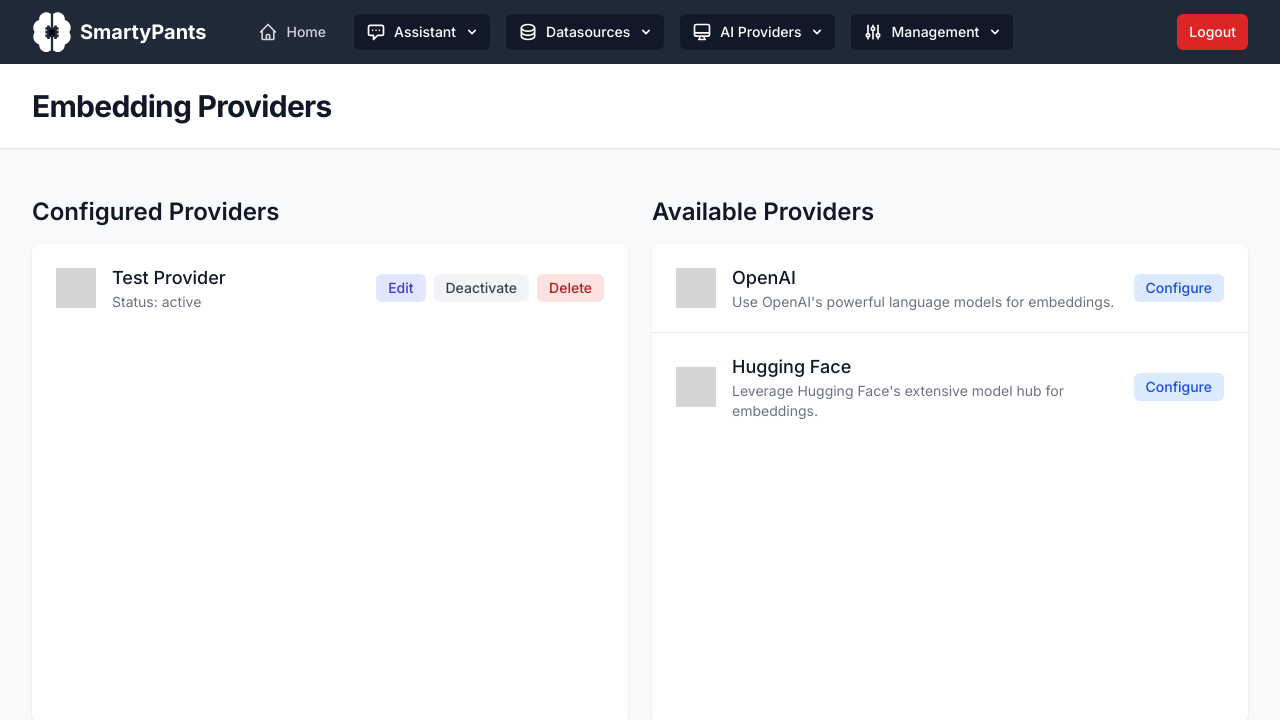
Test: EmbeddingProvidersPage › handles delete provider
The image size is (1280, 720).
Expected: the heading "Test Provider" is shown, [112,264,226,292]
Click the button "Delete" at (571, 288), box [537,274,604,302]
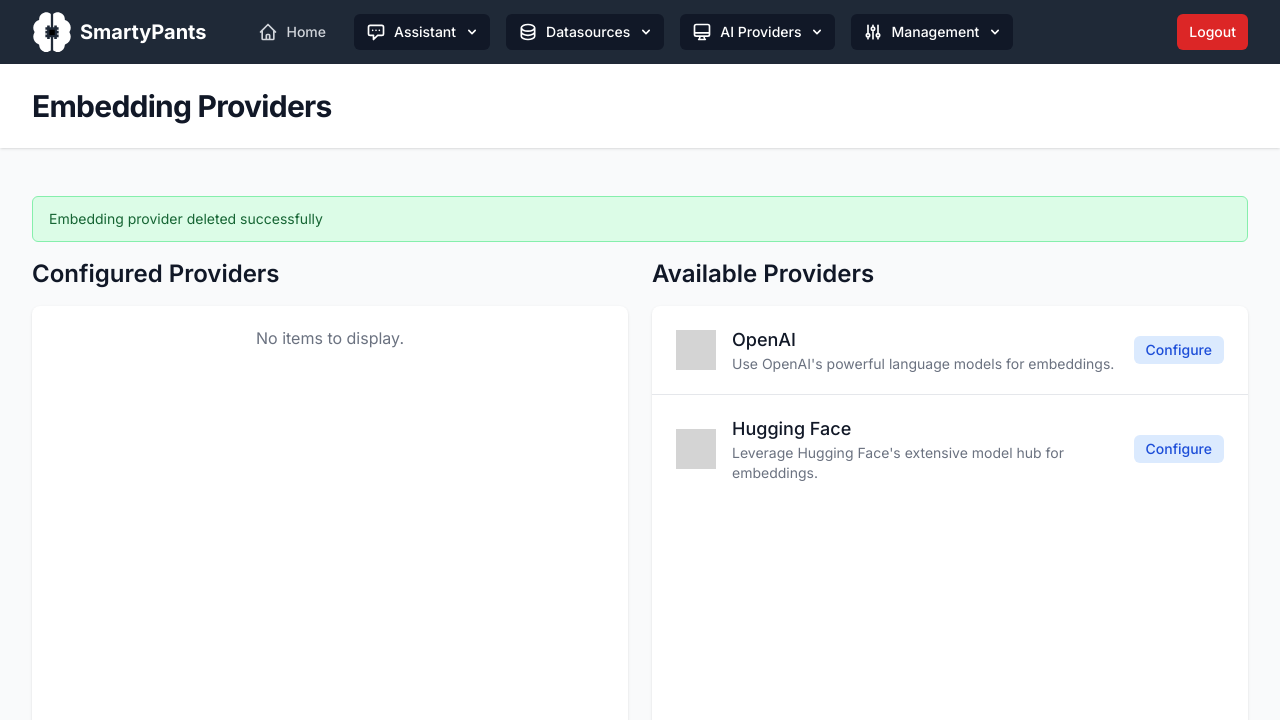
Result: the text "Embedding provider deleted successfully" is shown at [49,210,323,227]
